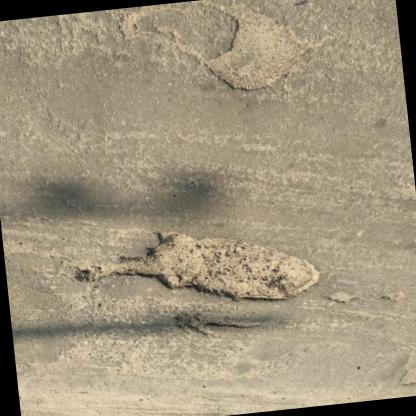pothole: (68, 214, 326, 326), (197, 0, 304, 97), (171, 302, 266, 341), (327, 289, 359, 307), (396, 363, 416, 390)
